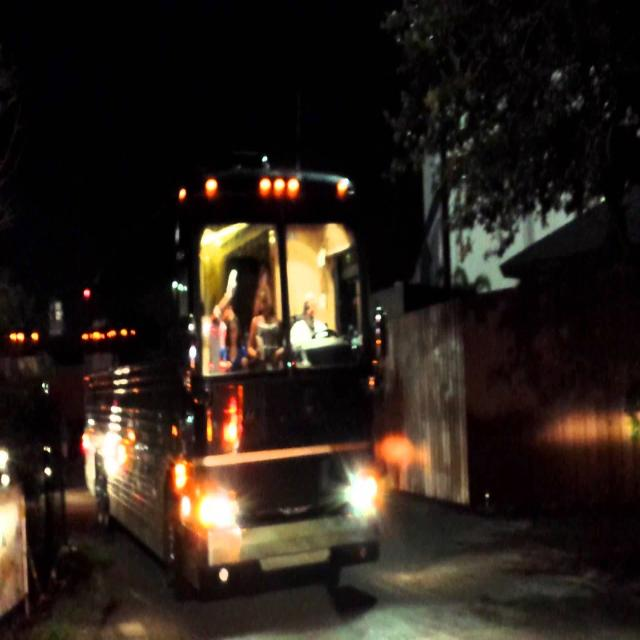Bus: (64, 128, 399, 606)
